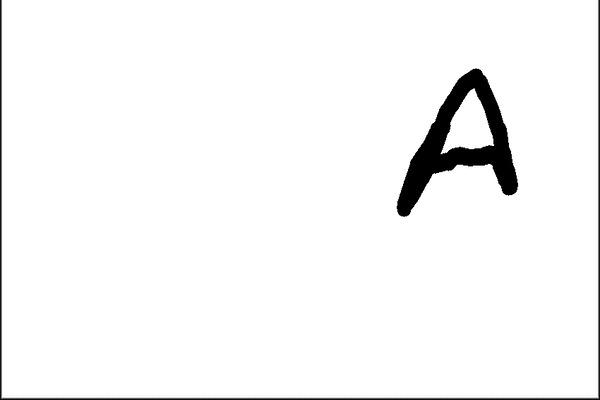A: (383, 53, 526, 225)
